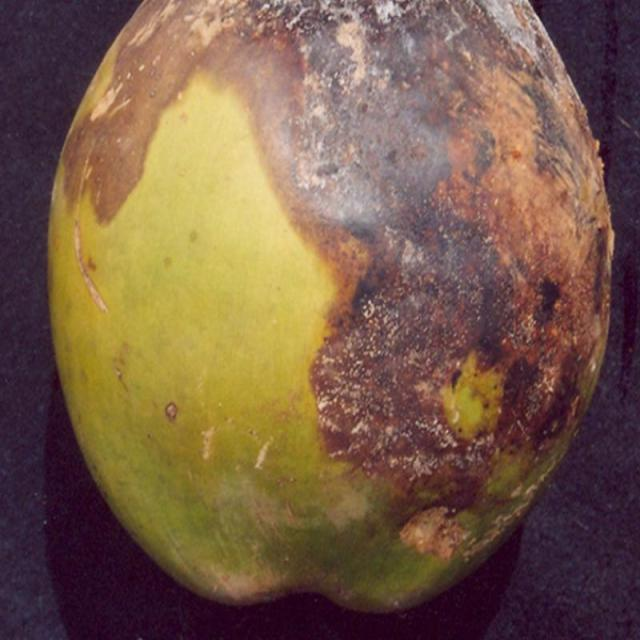damaged: (46, 0, 615, 617)
